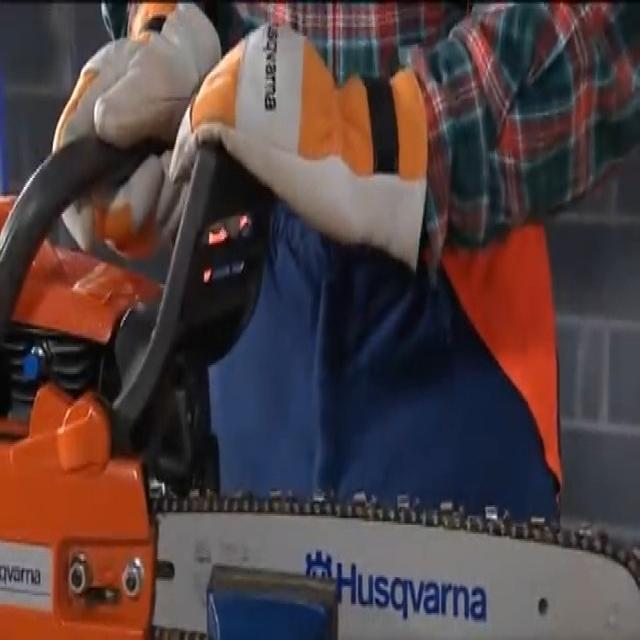Chainsaw: (0, 109, 638, 640)
